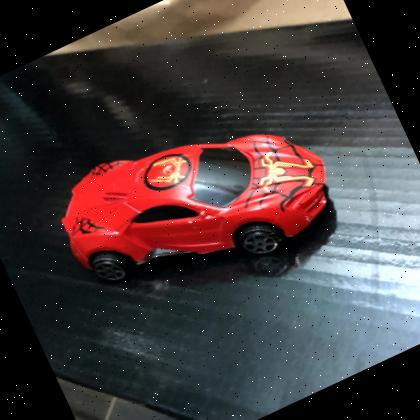Car: (61, 134, 328, 284)
